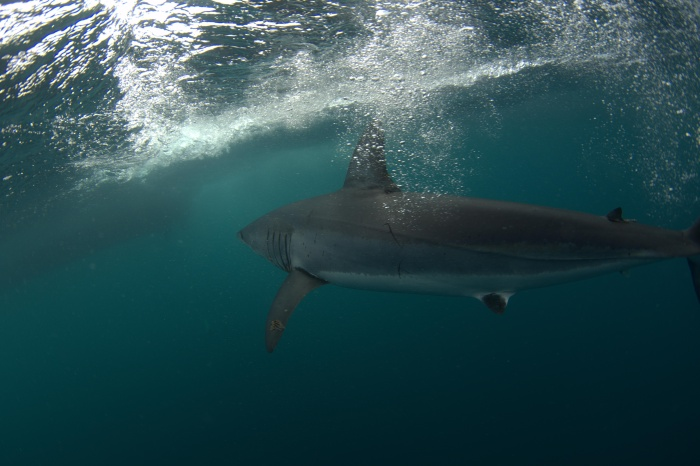Mako: (226, 112, 700, 366)
